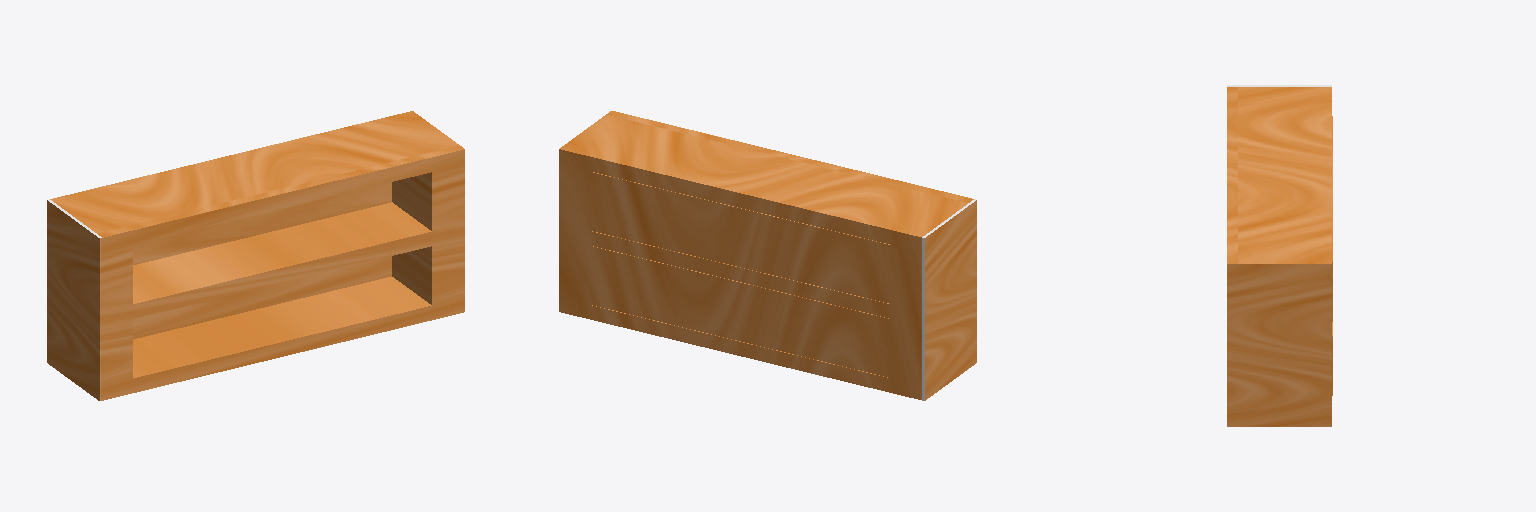
The picture shows the model from 3 angles: view 1: azimuth 30°, elevation 25°; view 2: azimuth 150°, elevation 25°; view 3: azimuth 270°, elevation 25°; orthographic projection.
Parts seen in each view (by area): view 1: pCube1; view 2: pCube1; view 3: pCube1.
Part boxes in pixels (bbox=[...]): pCube1: bbox=[47, 111, 464, 400]; pCube1: bbox=[559, 111, 976, 400]; pCube1: bbox=[1227, 85, 1332, 426].
Bounding box in the file's own units: 15.99 × 6.81 × 4.01.
Materials: 1 (1 with a texture image).